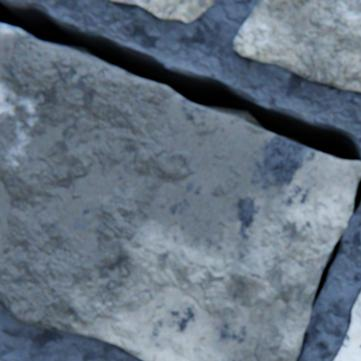brick: (0, 24, 360, 360), (234, 0, 360, 92), (110, 0, 215, 23), (334, 293, 360, 360)
crack: (0, 0, 360, 162), (312, 236, 340, 305), (352, 179, 360, 214)
